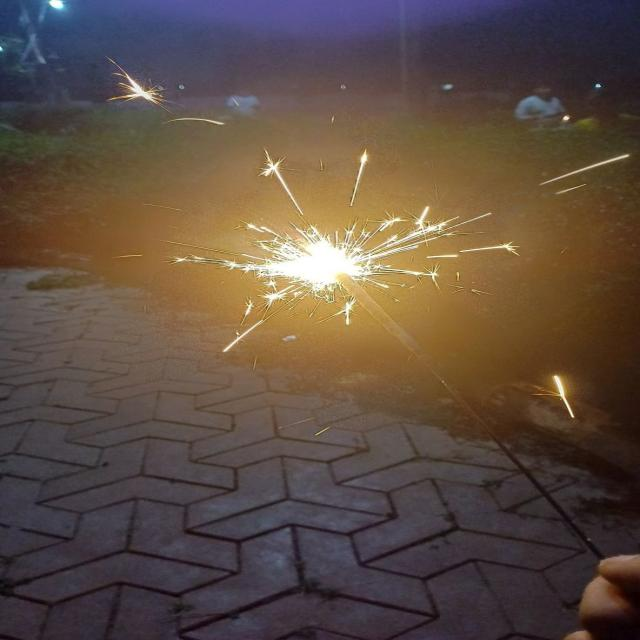fire: (265, 238, 367, 290)
